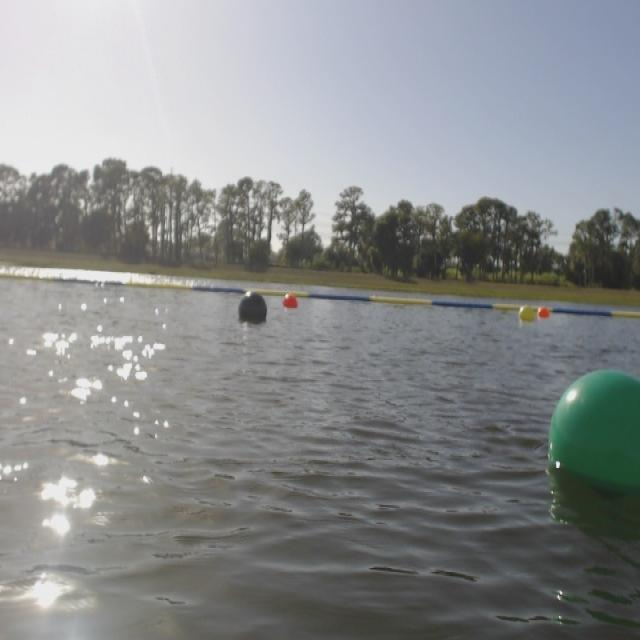Black_Buoy: (226, 283, 276, 330)
Green_Buoy: (556, 363, 640, 495)
Orange__Buoy: (283, 290, 296, 310), (540, 302, 553, 320)
